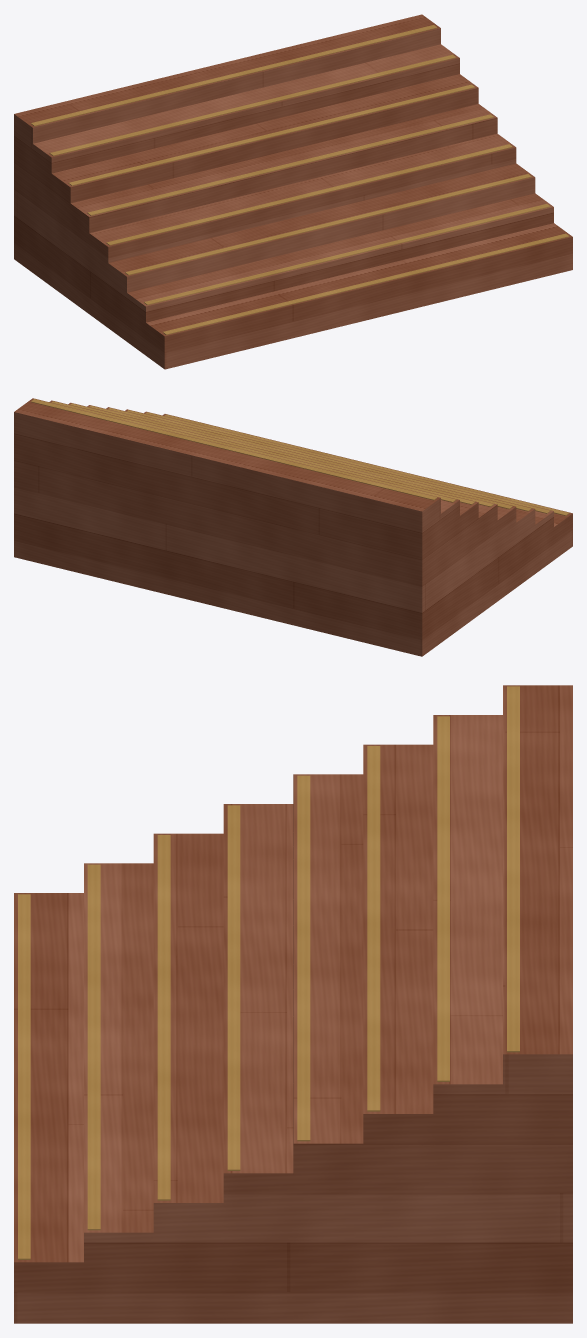
The model's file is SM_Theater_Stair_Stage8.fbx.
3 views of the same model, one above another, from view 1: azimuth 30°, elevation 25°; view 2: azimuth 150°, elevation 25°; view 3: azimuth 270°, elevation 25° (orthographic). The views are drawn at different scales.
Visible parts, largest first — view 1: SM_Theater_Stair_Stage8_LOD0; view 2: SM_Theater_Stair_Stage8_LOD0; view 3: SM_Theater_Stair_Stage8_LOD0.
Part boxes in pixels (<box>): SM_Theater_Stair_Stage8_LOD0: <box>14,14,572,369</box>; SM_Theater_Stair_Stage8_LOD0: <box>14,398,572,656</box>; SM_Theater_Stair_Stage8_LOD0: <box>14,685,572,1323</box>.
Size of what is drawn, in the model's own units: 4 by 1.37 by 2.56.
